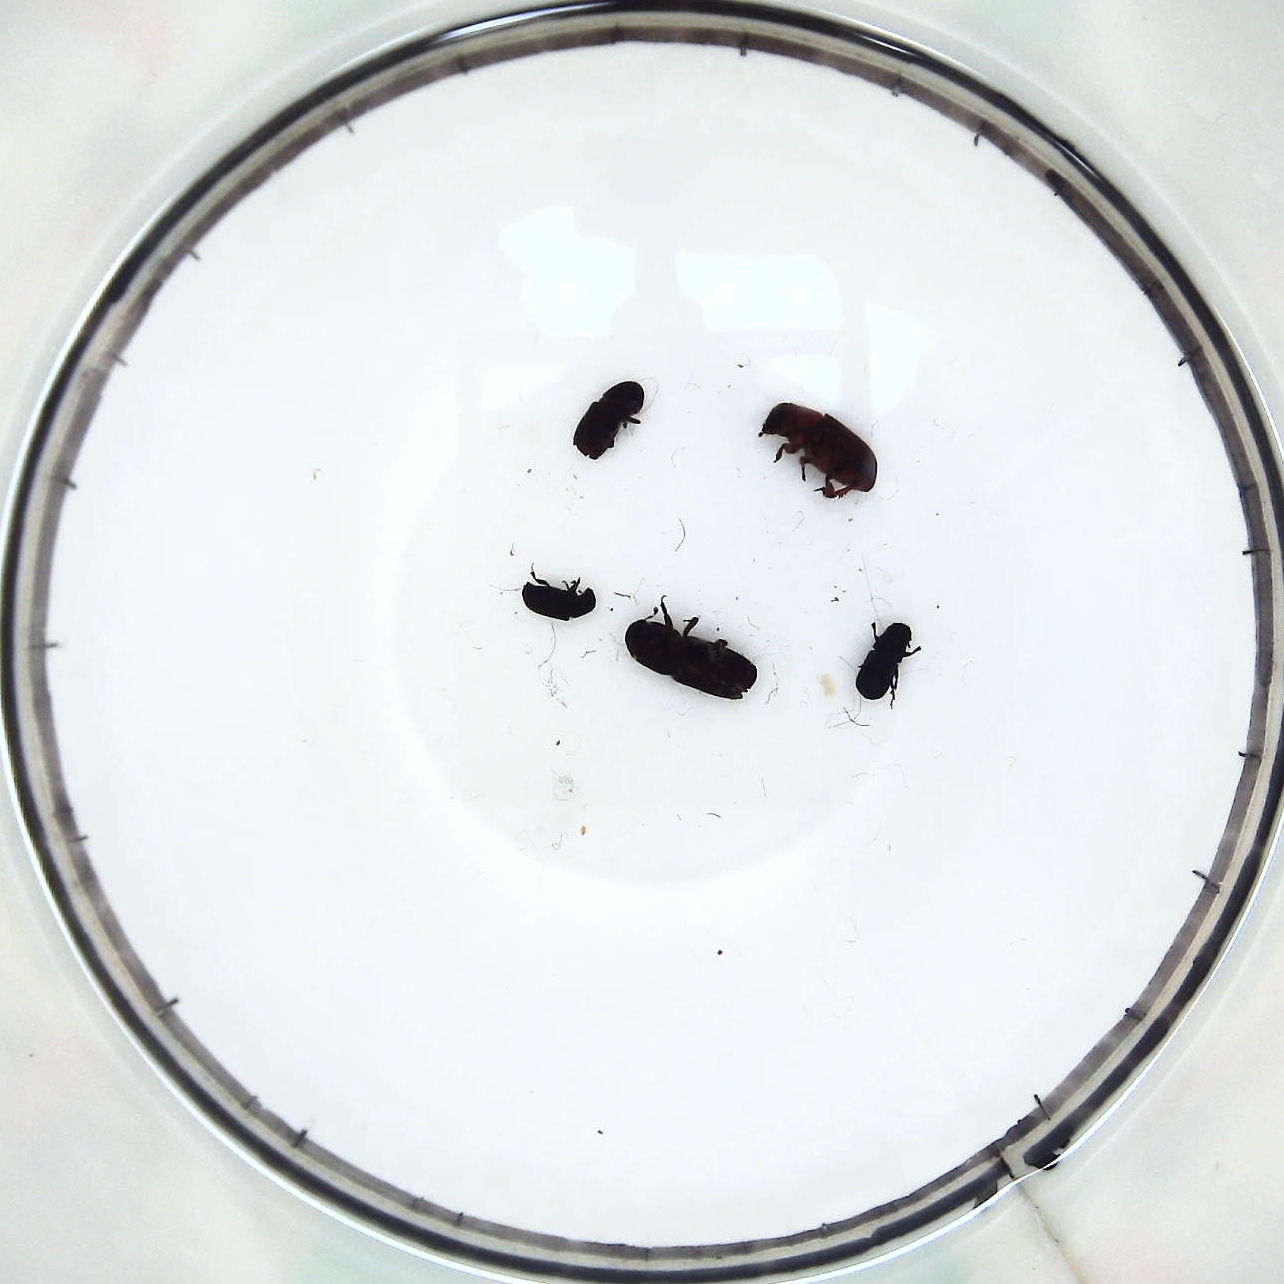Boerner: (624, 606, 757, 703)
Leconte: (760, 399, 880, 500)
Linnaeus: (579, 376, 647, 464)
armandi: (854, 620, 911, 697)
coleoptera: (526, 571, 596, 626)
